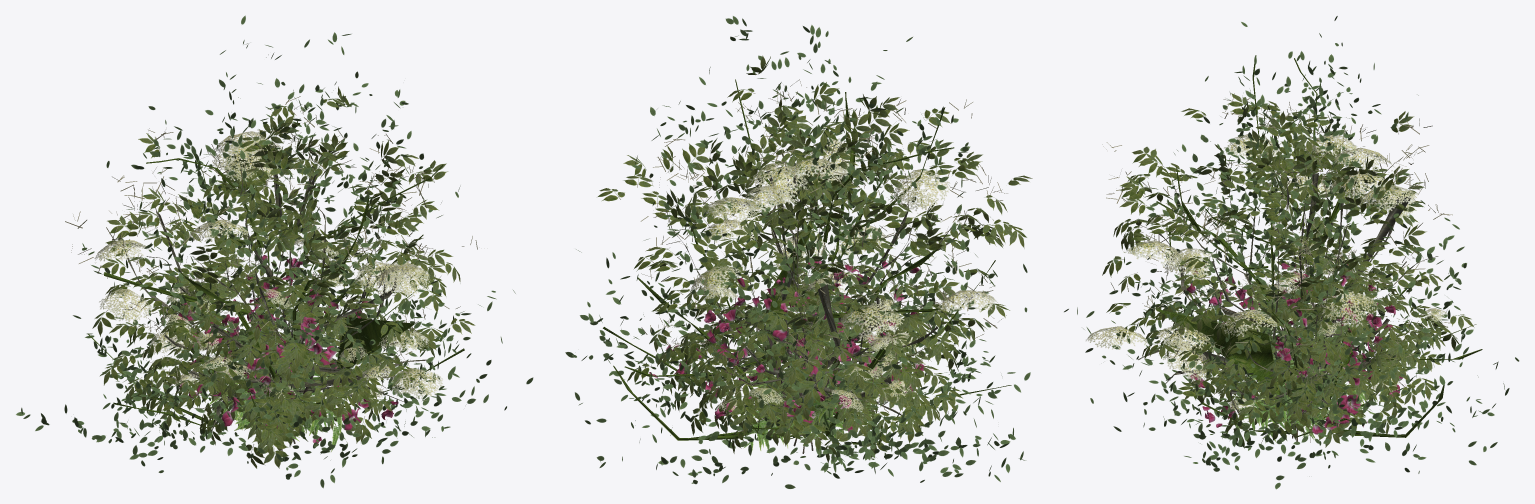
Rendered from vegetation_04.glb.
The picture shows the model from 3 angles, left to right: view 1: azimuth 30°, elevation 25°; view 2: azimuth 150°, elevation 25°; view 3: azimuth 270°, elevation 25°; orthographic projection. The views are drawn at different scales.
Parts seen in each view (by area): view 1: prototype_034, prototype_033, prototype_032, prototype_039, prototype_035, prototype_038, prototype_037, prototype_036; view 2: prototype_034, prototype_033, prototype_032, prototype_035, prototype_039, prototype_038, prototype_036, prototype_037; view 3: prototype_034, prototype_033, prototype_032, prototype_038, prototype_039, prototype_035, prototype_036, prototype_037.
Boxes of the visible parts, left/top/right/bottom form: prototype_034: left=65, top=86, right=477, bottom=468; prototype_033: left=16, top=15, right=533, bottom=488; prototype_032: left=132, top=241, right=401, bottom=445; prototype_039: left=177, top=255, right=368, bottom=413; prototype_035: left=228, top=291, right=333, bottom=427; prototype_038: left=179, top=262, right=398, bottom=445; prototype_037: left=216, top=351, right=347, bottom=451; prototype_036: left=198, top=360, right=343, bottom=450; prototype_034: left=598, top=55, right=1032, bottom=458; prototype_033: left=565, top=16, right=1030, bottom=488; prototype_032: left=649, top=249, right=943, bottom=463; prototype_035: left=744, top=287, right=863, bottom=433; prototype_039: left=694, top=259, right=919, bottom=433; prototype_038: left=649, top=265, right=925, bottom=441; prototype_036: left=743, top=361, right=883, bottom=453; prototype_037: left=741, top=352, right=876, bottom=453; prototype_034: left=1086, top=93, right=1474, bottom=448; prototype_033: left=1064, top=16, right=1519, bottom=489; prototype_032: left=1182, top=225, right=1450, bottom=439; prototype_038: left=1190, top=287, right=1403, bottom=436; prototype_039: left=1186, top=263, right=1398, bottom=392; prototype_035: left=1256, top=287, right=1351, bottom=427; prototype_036: left=1238, top=349, right=1374, bottom=444; prototype_037: left=1227, top=347, right=1378, bottom=436.
Size of the model in its own units: 4.86 by 4.36 by 4.35.
14 materials, 14 textured.
